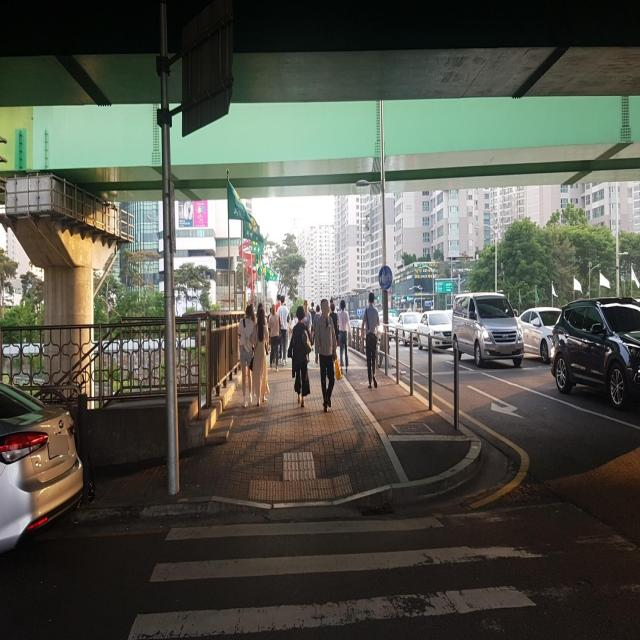횡단보도: (125, 498, 640, 640)
